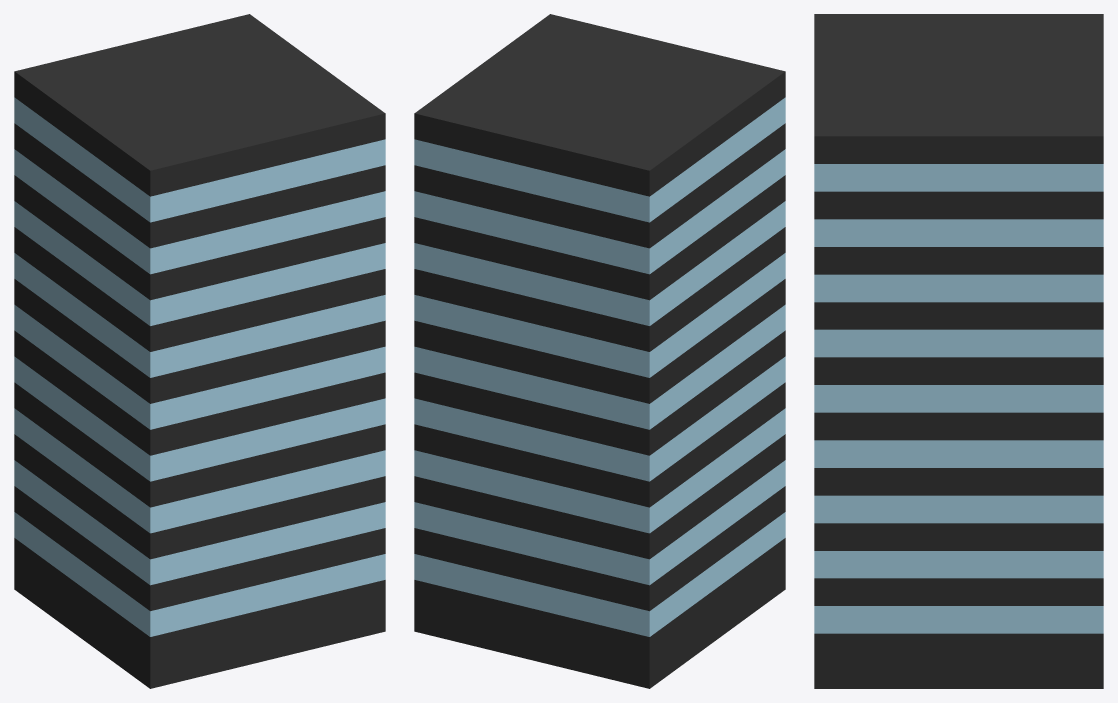
The model's file is Building_Placeholder.FBX.
3 views of the same model, side by side, from view 1: azimuth 30°, elevation 25°; view 2: azimuth 150°, elevation 25°; view 3: azimuth 270°, elevation 25° (orthographic). The views are drawn at different scales.
Visible parts, largest first — view 1: Building, Windows; view 2: Building, Windows; view 3: Building, Windows.
Boxes of the visible parts, <box> form: Building: <box>14,14,385,688</box>; Windows: <box>14,97,385,636</box>; Building: <box>414,14,785,688</box>; Windows: <box>414,97,785,636</box>; Building: <box>814,14,1103,688</box>; Windows: <box>814,164,1103,633</box>.
Bounding box in the file's own units: 9.5 × 20 × 9.5.
